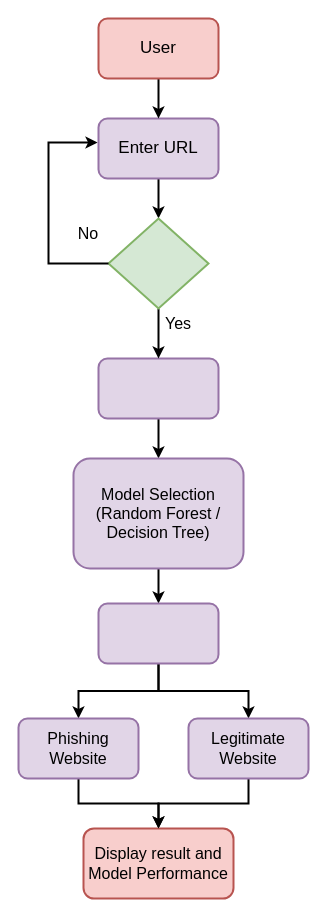
The diagram is 326 pixels wide and 916 high, and some of its shapes have lost their labels. Each missing label, with the centre of its shape:
"Classification" goes at (x=158, y=633).
"Feature Extraction" goes at (x=158, y=388).
"URL Validation" goes at (x=158, y=263).
